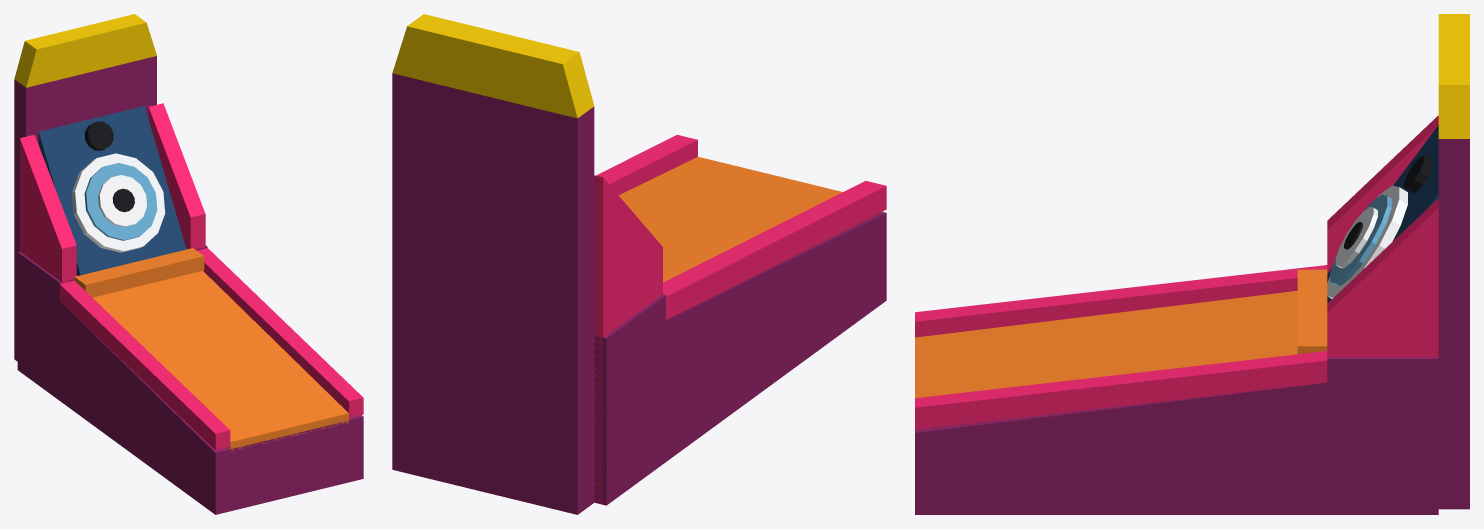
Rendered from lane.glb.
The picture shows the model from 3 angles, left to right: view 1: azimuth 30°, elevation 25°; view 2: azimuth 150°, elevation 25°; view 3: azimuth 270°, elevation 25°; orthographic projection. The views are drawn at different scales.
Visible parts, largest first — view 1: Lane; view 2: Lane; view 3: Lane.
Part boxes in pixels (bbox=[...]): Lane: bbox=[14, 14, 363, 514]; Lane: bbox=[392, 14, 886, 514]; Lane: bbox=[915, 14, 1469, 514].
Size of the model in its own units: 1.3 by 2.65 by 3.19.
